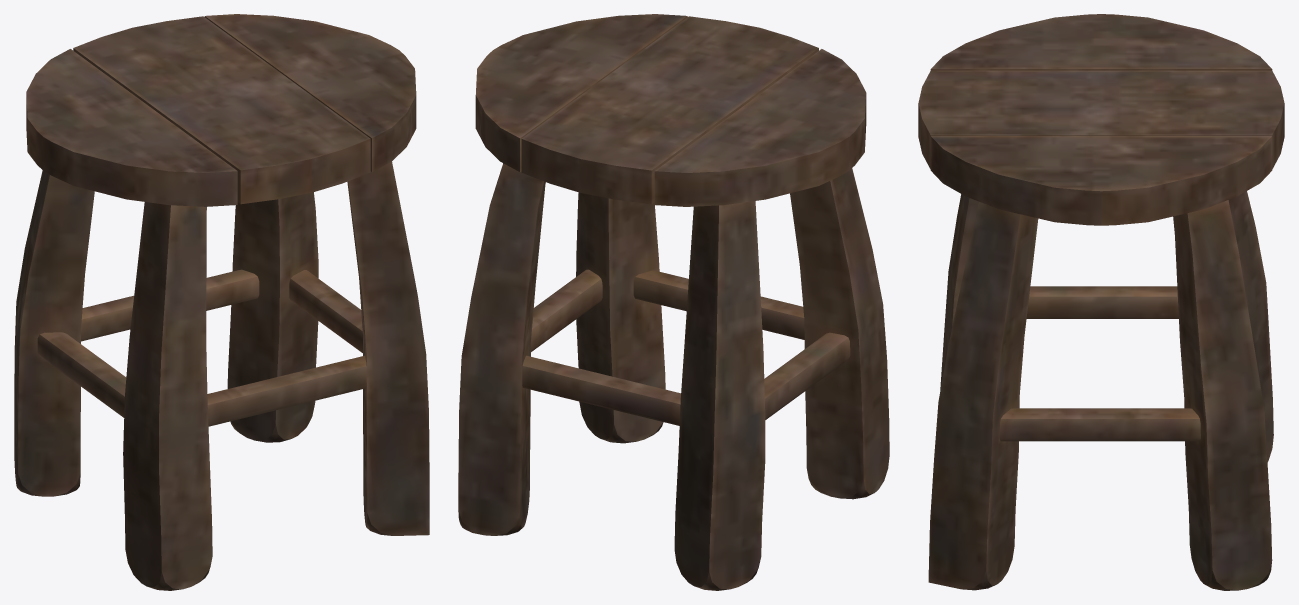
The model's file is SM_stool_c138eb.glb.
3 views of the same model, side by side, from view 1: azimuth 30°, elevation 25°; view 2: azimuth 150°, elevation 25°; view 3: azimuth 270°, elevation 25° (orthographic). The views are drawn at different scales.
Bounding box in the file's own units: 0.4697 × 0.517 × 0.41.
1 material, 1 textured.
